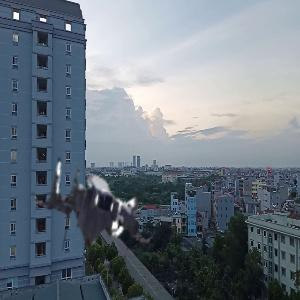drone: (23, 137, 169, 283)
